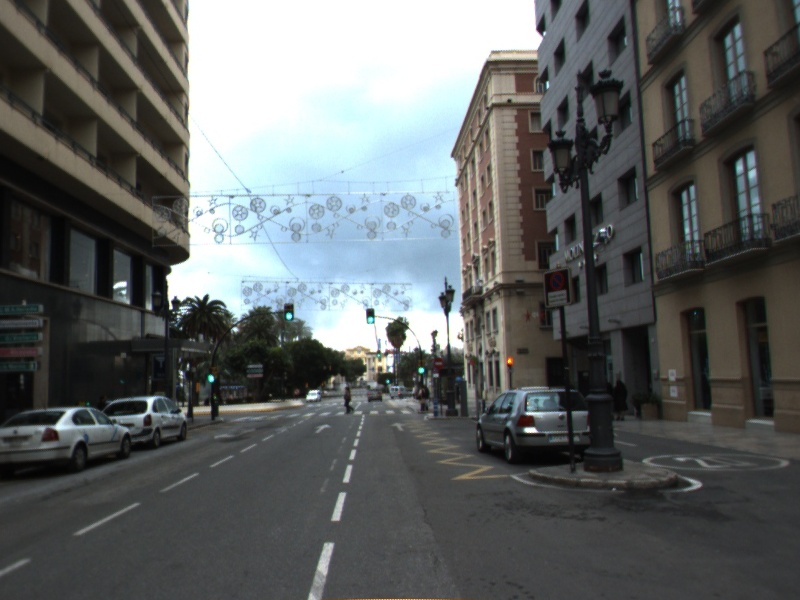STRAIGHT: (311, 422, 334, 436), (387, 420, 409, 433)
STRAIGHT_LEFT: (212, 426, 257, 441)
